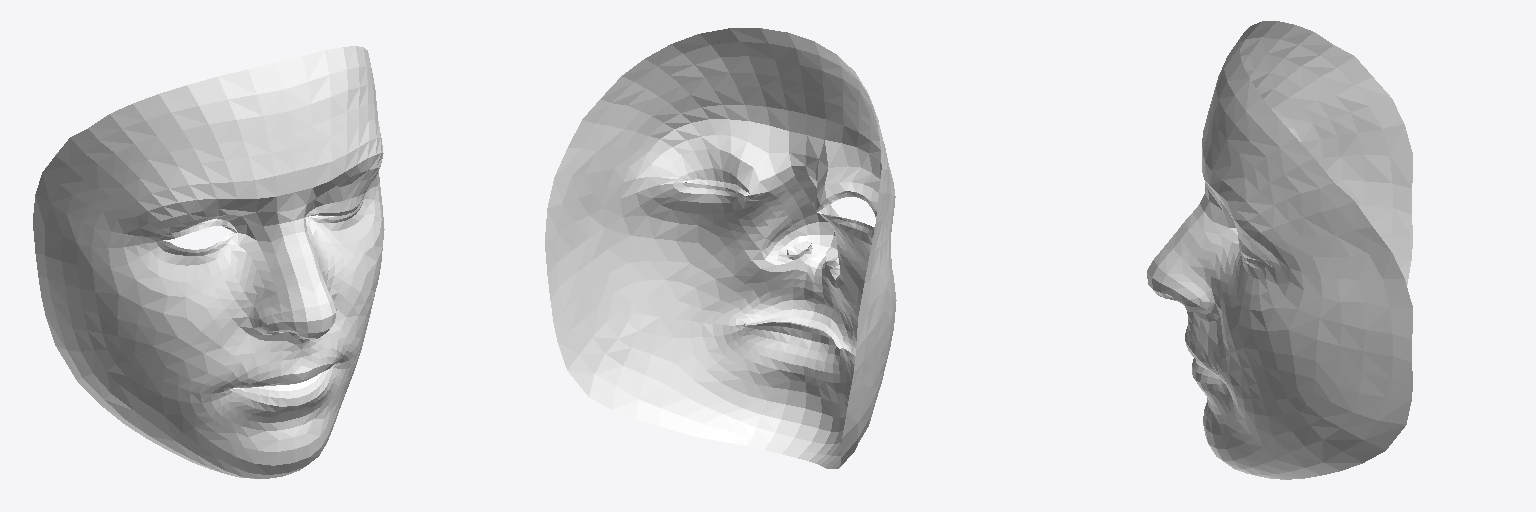
Rendered from eyeBlink_L.obj.
The picture shows the model from 3 angles: view 1: azimuth 30°, elevation 25°; view 2: azimuth 150°, elevation 25°; view 3: azimuth 270°, elevation 25°; orthographic projection.
Visible parts, largest first — view 1: default; view 2: default; view 3: default.
Part boxes in pixels (x1,y1,x2,y2): default: (33,46,384,478); default: (545,28,896,468); default: (1147,21,1412,479).
Bounding box in the file's own units: 0.1447 × 0.182 × 0.1055.